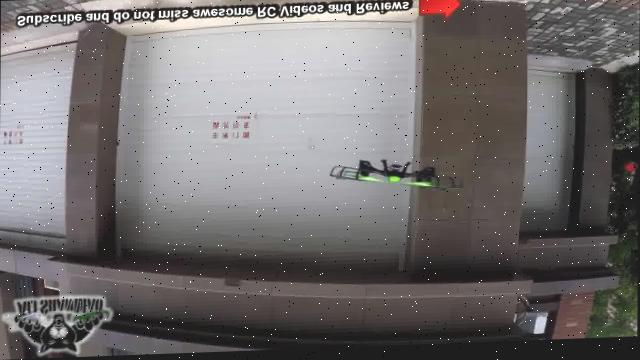drone: (323, 157, 463, 205)
